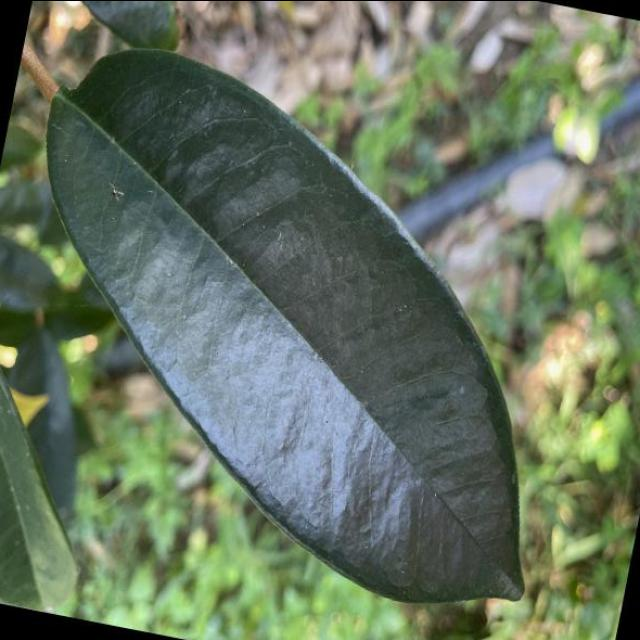No Disease: (0, 18, 622, 638)
